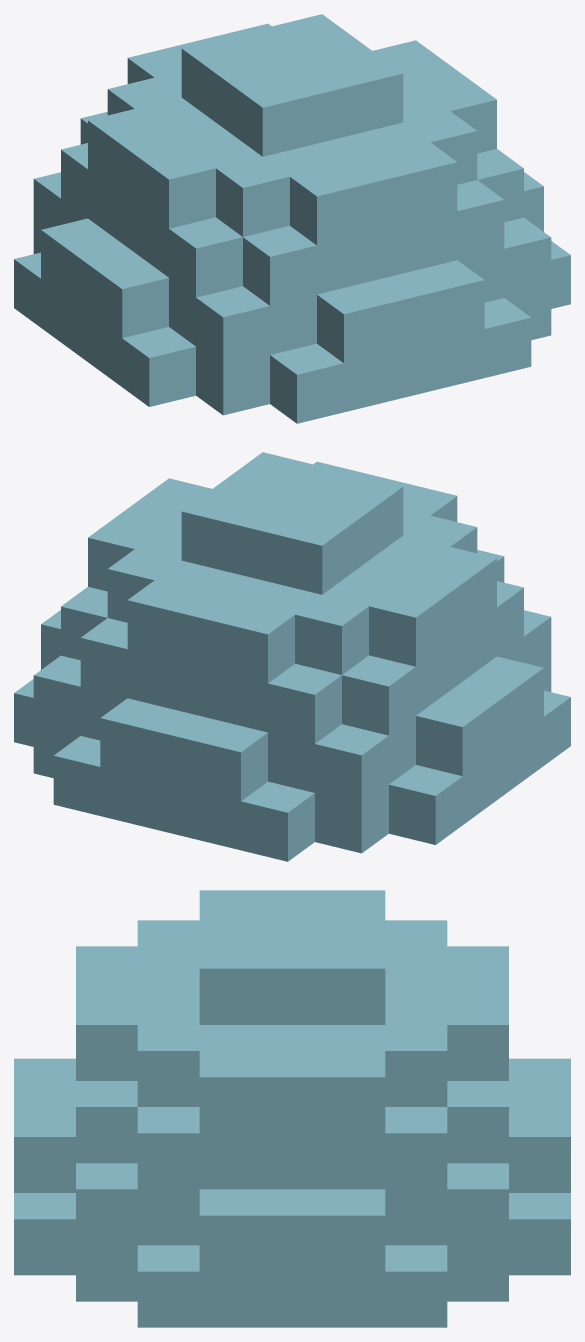
The model's file is Light00-GlassB.gltf.
The picture shows the model from 3 angles, top to bottom: view 1: azimuth 30°, elevation 25°; view 2: azimuth 150°, elevation 25°; view 3: azimuth 270°, elevation 25°; orthographic projection. The views are drawn at different scales.
Size of the model in its own units: 9 by 5 by 9.
